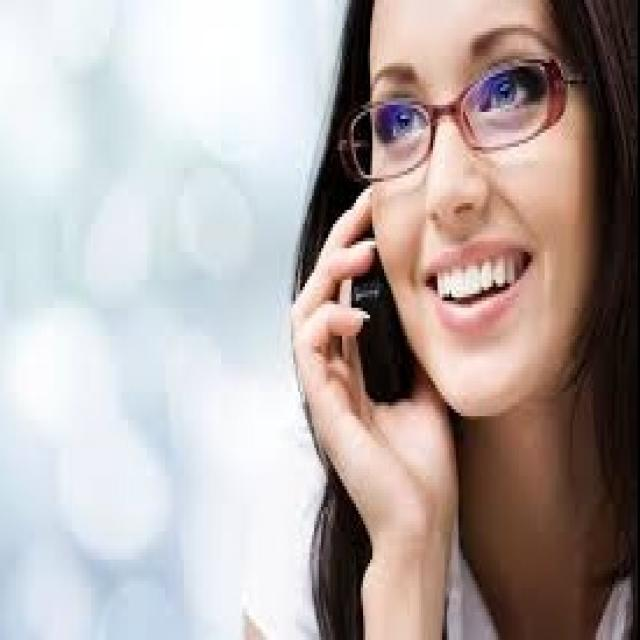phone: (256, 63, 472, 532)
